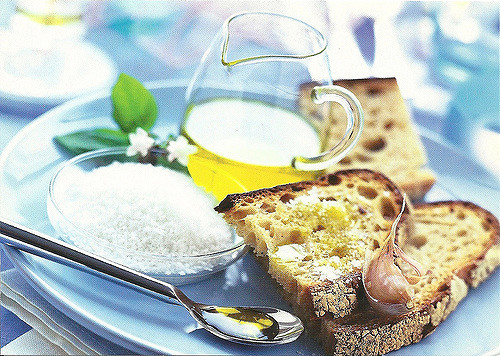slice of bread: (220, 167, 500, 348), (298, 77, 445, 200)
